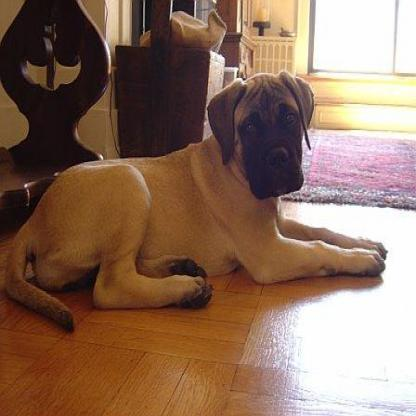bull_mastiff: (1, 67, 388, 332)
